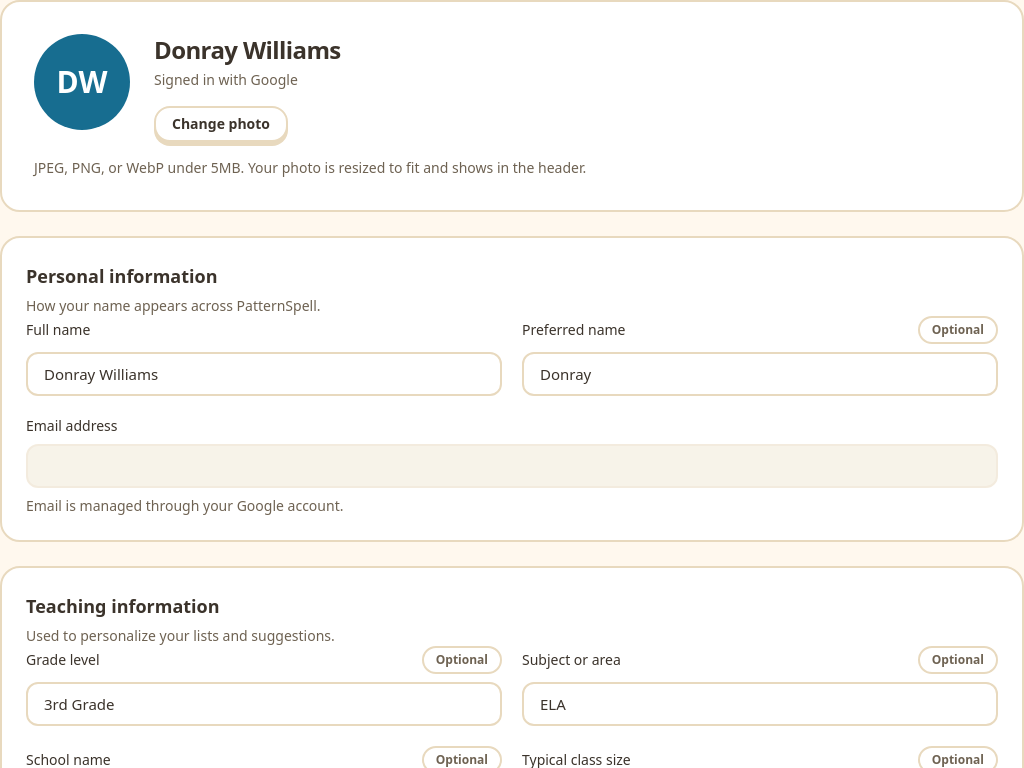
ProfileForm › saves without cache invalidation when the session email is gone (issue #479)
Replace the text in the field labelled "Full name" with "Donray W.". click: (264, 374)
box: top-left (26, 352), bottom-right (502, 396)
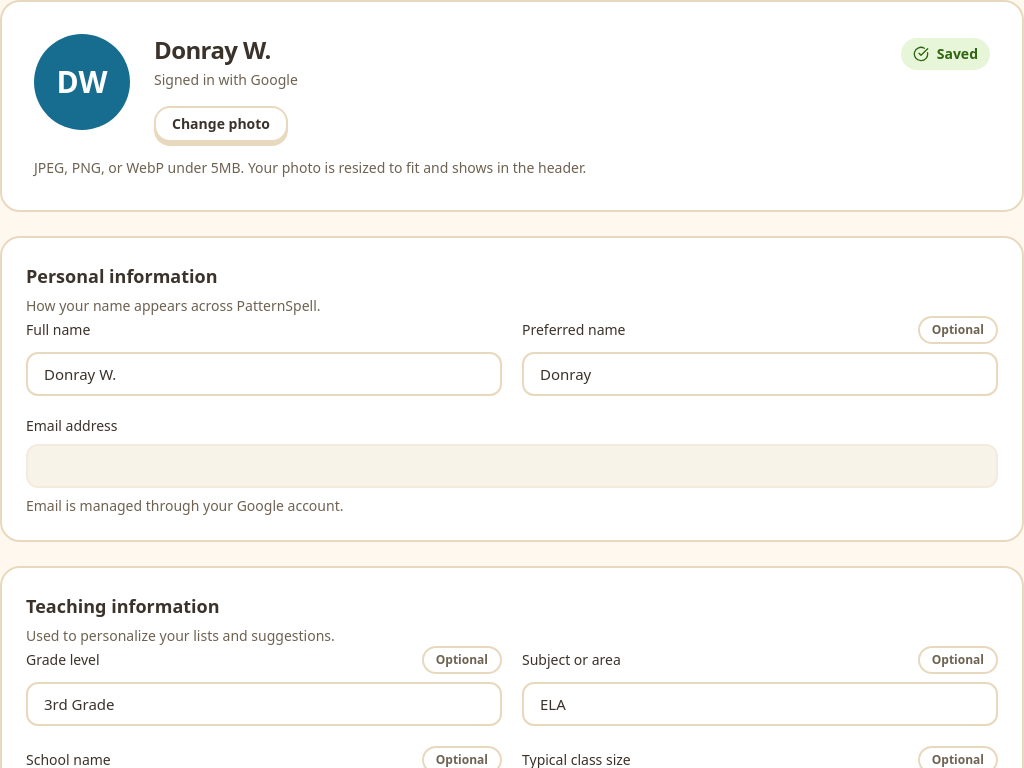
Expected: the text "Saved" is shown, top-left (901, 38), bottom-right (990, 70)
